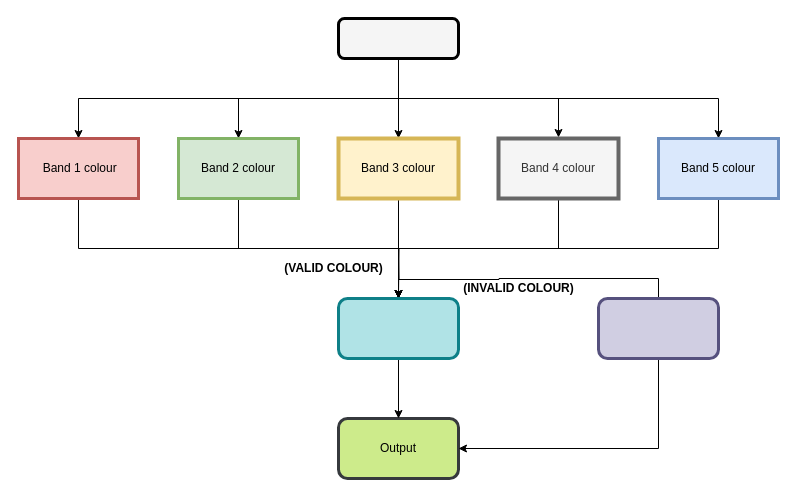
The diagram is 797 pixels wide and 497 high, and some of its shapes have lost their labels. Here are the shapes that lost their labels. From the top down, the centre of each, then its label:
At pixel 398 38: "User Input".
At pixel 398 328: "Process".
At pixel 658 328: "Invalid Colour".
